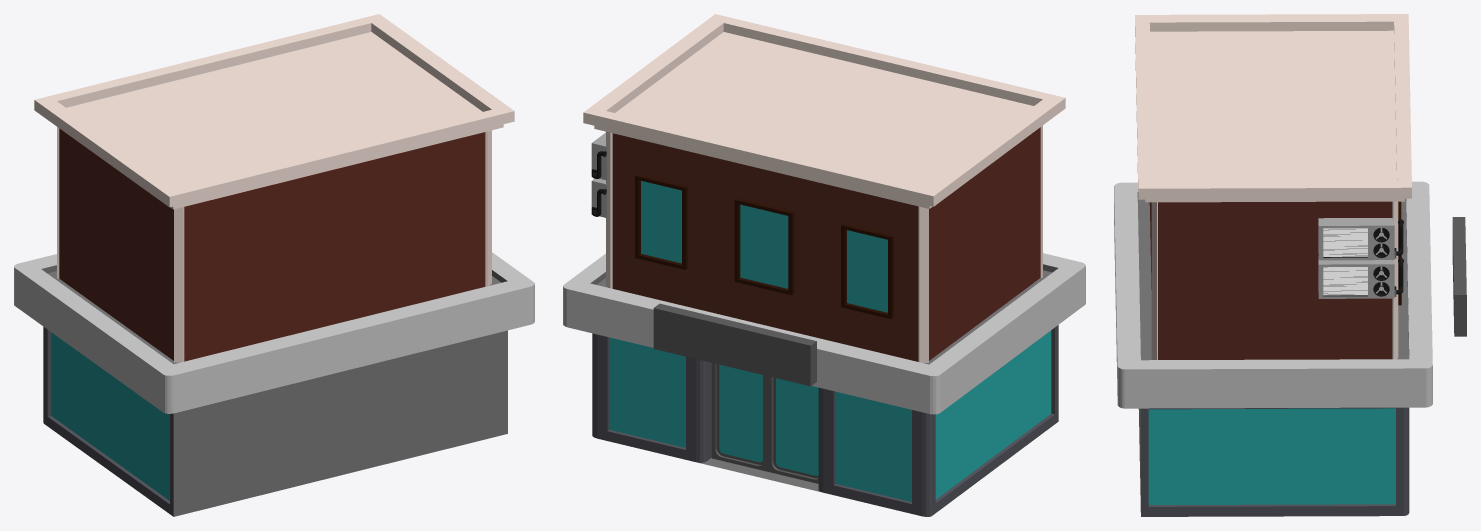
The model's file is Himik_Street_VirtuSim.fbx.
3 views of the same model, side by side, from view 1: azimuth 30°, elevation 25°; view 2: azimuth 150°, elevation 25°; view 3: azimuth 270°, elevation 25° (orthographic). The views are drawn at different scales.
Visible parts, largest first — view 1: Cube.032; view 2: Cube.032, Cube.001, Cube, AC MODEL.011, AC MODEL.014; view 3: Cube.032, AC MODEL.011, AC MODEL.014, Cube.
Part boxes in pixels (box(x1,y1,x2,y2)): Cube.032: box(14, 14, 534, 516); Cube.032: box(563, 14, 1085, 516); Cube.001: box(711, 363, 818, 483); Cube: box(653, 303, 816, 386); AC MODEL.011: box(591, 132, 606, 180); AC MODEL.014: box(591, 178, 606, 217); Cube.032: box(1114, 14, 1432, 516); AC MODEL.011: box(1318, 218, 1403, 260); AC MODEL.014: box(1318, 257, 1403, 298); Cube: box(1452, 217, 1466, 336).
Bounding box in the file's own units: 1932 × 1534 × 1589.
4 materials, 4 textured.
